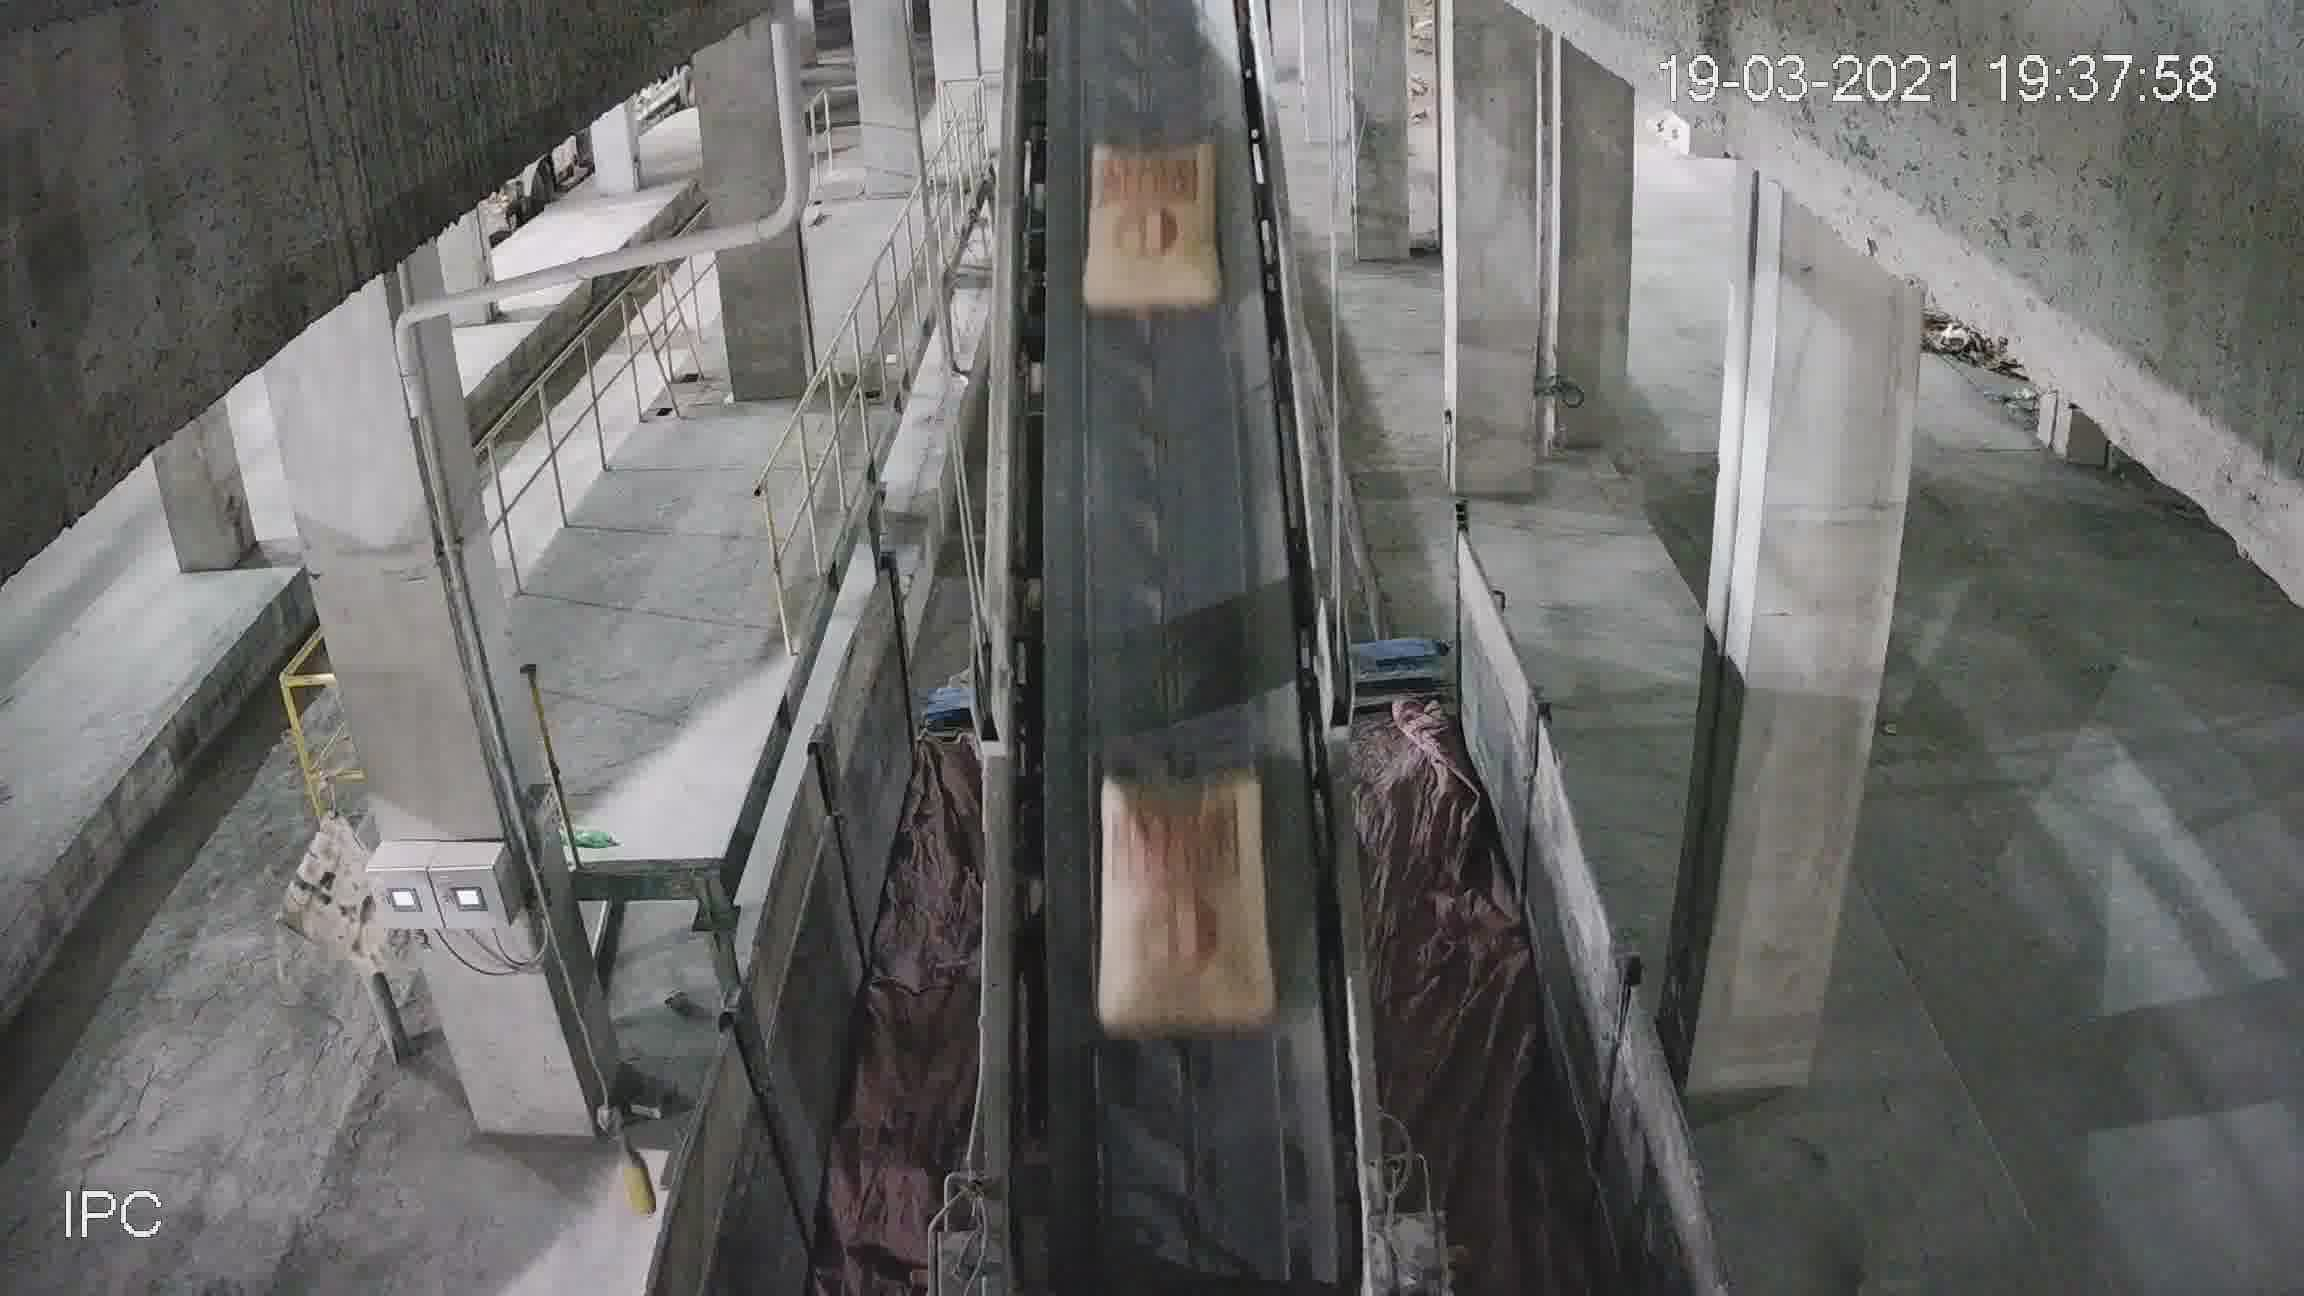bag: (1097, 775, 1264, 1036), (1090, 157, 1215, 310)
belt: (984, 2, 1383, 1059)
